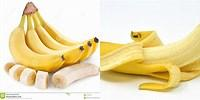banana: (99, 23, 200, 98), (11, 8, 97, 72), (55, 60, 98, 92), (2, 65, 60, 88)
